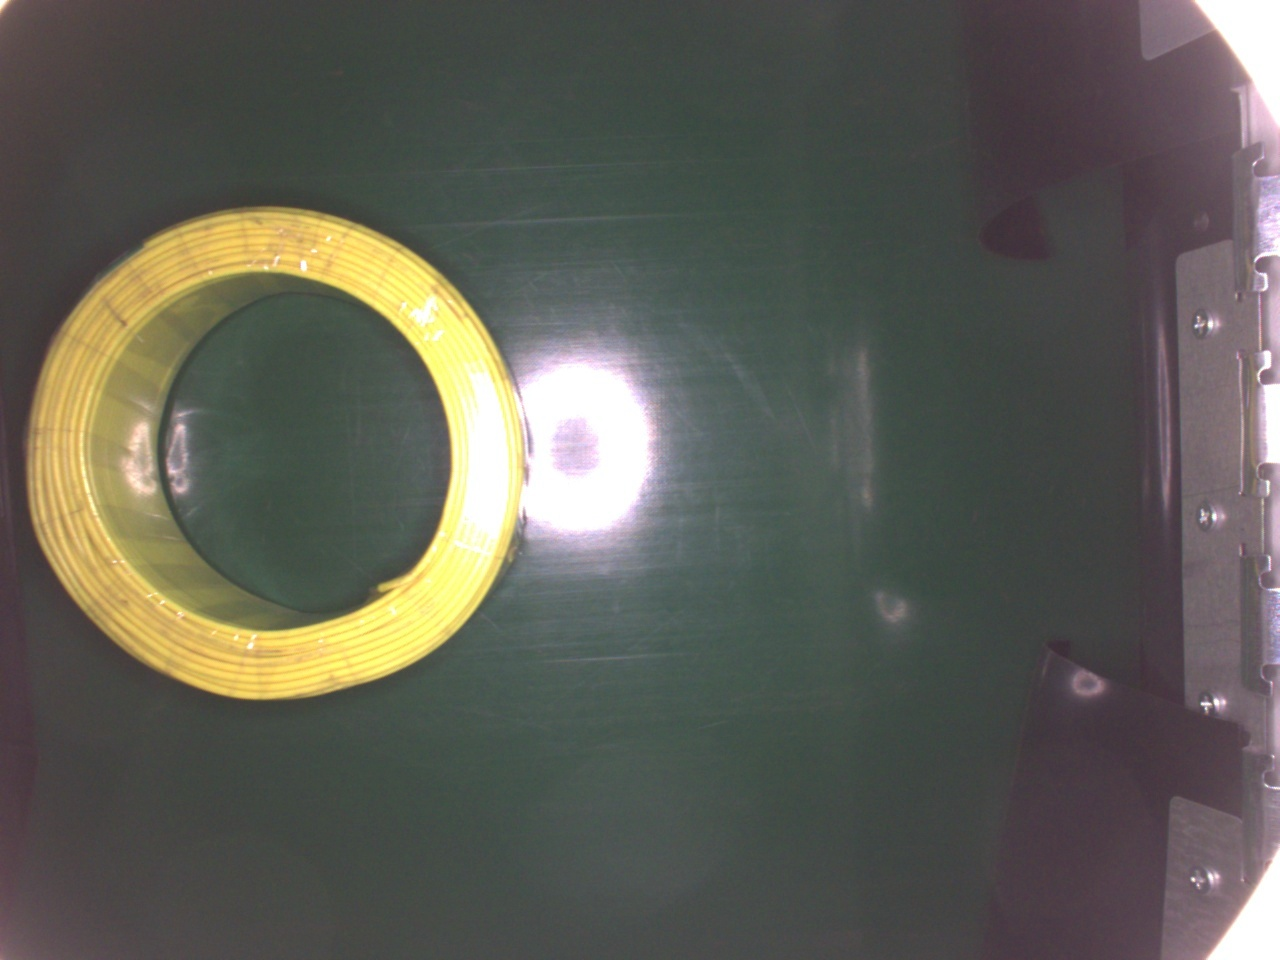yellow: (24, 202, 529, 704)
